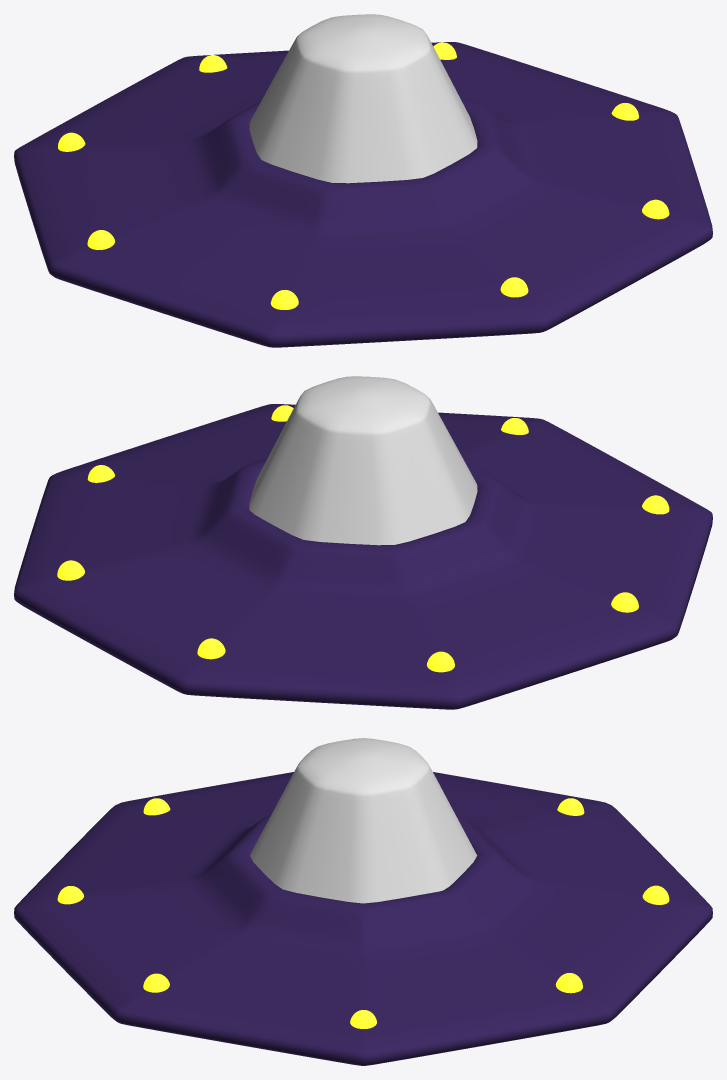
The model's file is alien_spaceship.glb.
3 renders of one model, top to bottom at view 1: azimuth 30°, elevation 25°; view 2: azimuth 150°, elevation 25°; view 3: azimuth 270°, elevation 25°, orthographic. The views are drawn at different scales.
Parts seen in each view (by area): view 1: spaceship, cabine, lights; view 2: spaceship, cabine, lights; view 3: spaceship, cabine, lights.
Part boxes in pixels (x1,y1,x2,y2): spaceship: (14, 42, 712, 347); cabine: (249, 14, 477, 183); lights: (58, 42, 669, 309); spaceship: (14, 404, 712, 709); cabine: (249, 376, 477, 545); lights: (57, 405, 669, 672); spaceship: (14, 772, 712, 1065); cabine: (249, 738, 477, 903); lights: (57, 798, 669, 1028).
Size of the model in its own units: 3.07 by 1.15 by 3.07.
